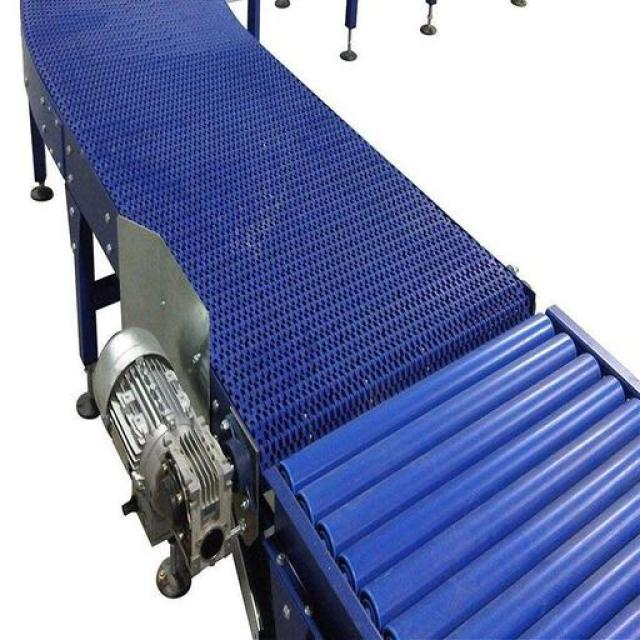conveyor: (18, 0, 640, 640)
